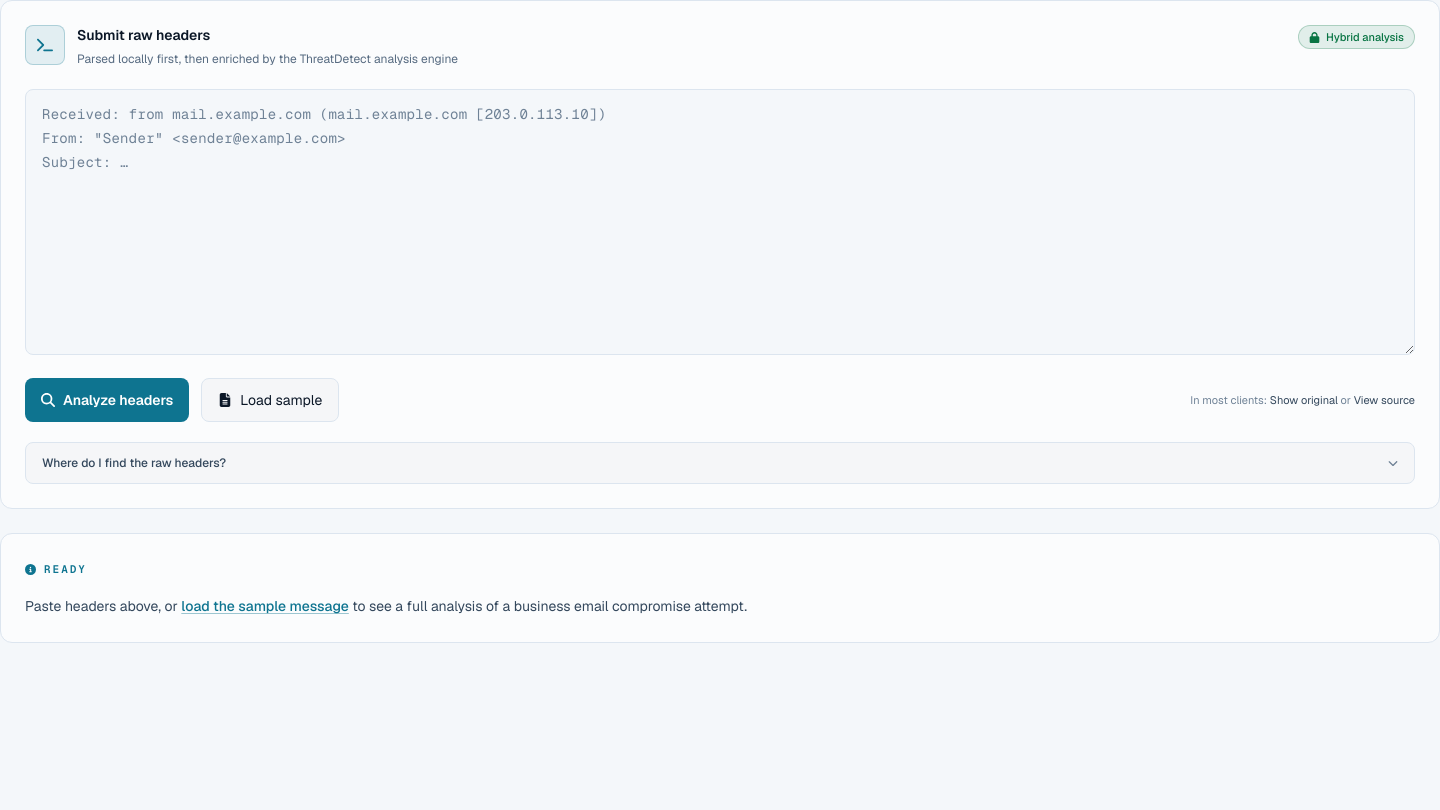
HeaderAnalyzer › reports an error for empty input rather than failing silently
Click the button "Analyze headers": (107, 400) [25,378,189,422]
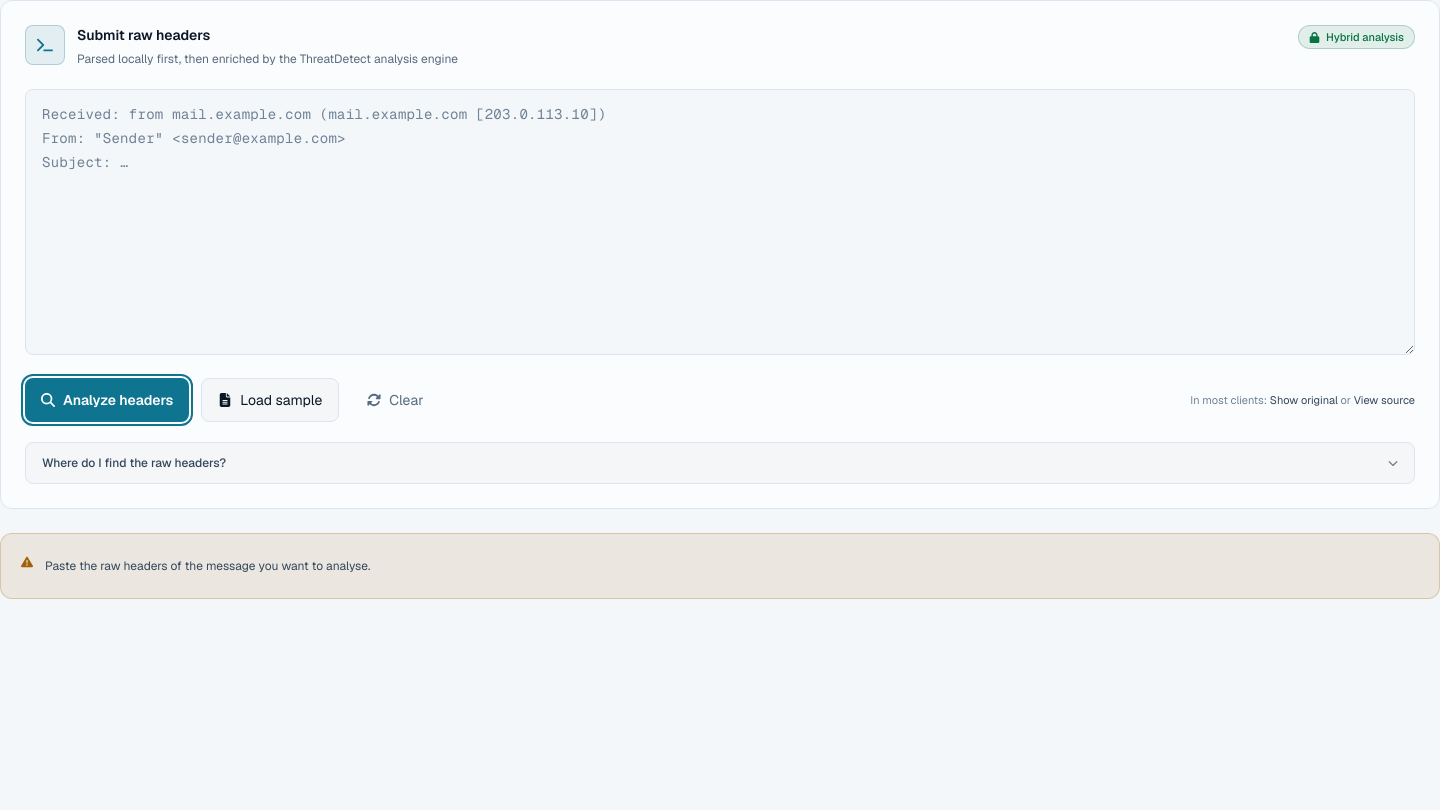
Check: the text "Paste the raw headers of the message you want to analyse." is shown, box [21,556,370,574]
